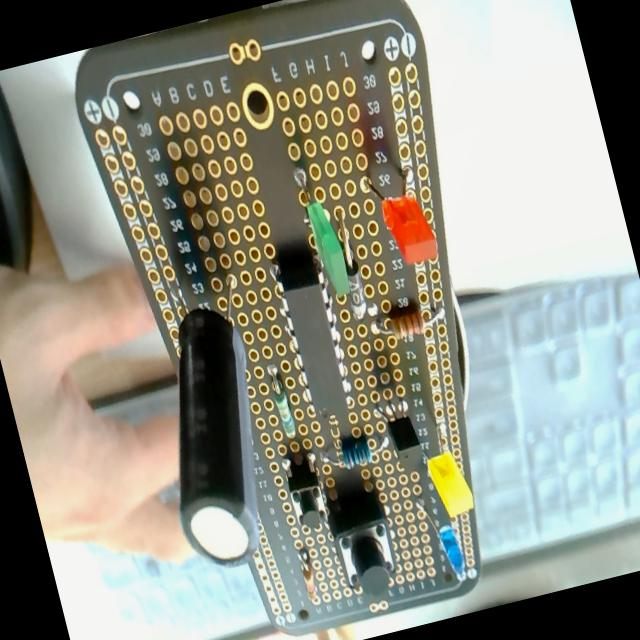Electrolytic capacitor: (121, 258, 303, 576)
IC: (266, 248, 361, 424)
diode: (333, 234, 371, 322)
led: (292, 162, 354, 300), (366, 164, 440, 272), (418, 496, 468, 585), (425, 446, 476, 522)
resistor: (316, 424, 392, 476), (372, 296, 450, 344), (264, 361, 300, 444), (292, 539, 324, 607)
switch: (324, 486, 404, 604), (281, 452, 329, 531)
transistor: (378, 394, 424, 466)
